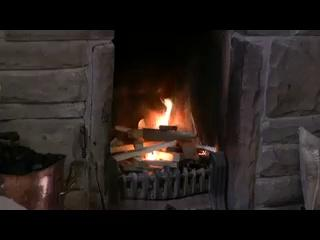Fire: (144, 83, 178, 131)
